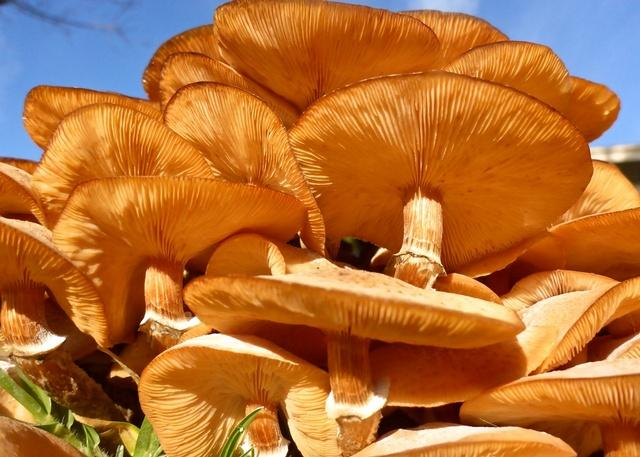edible_mushroom: (1, 0, 637, 455), (285, 68, 593, 288)
